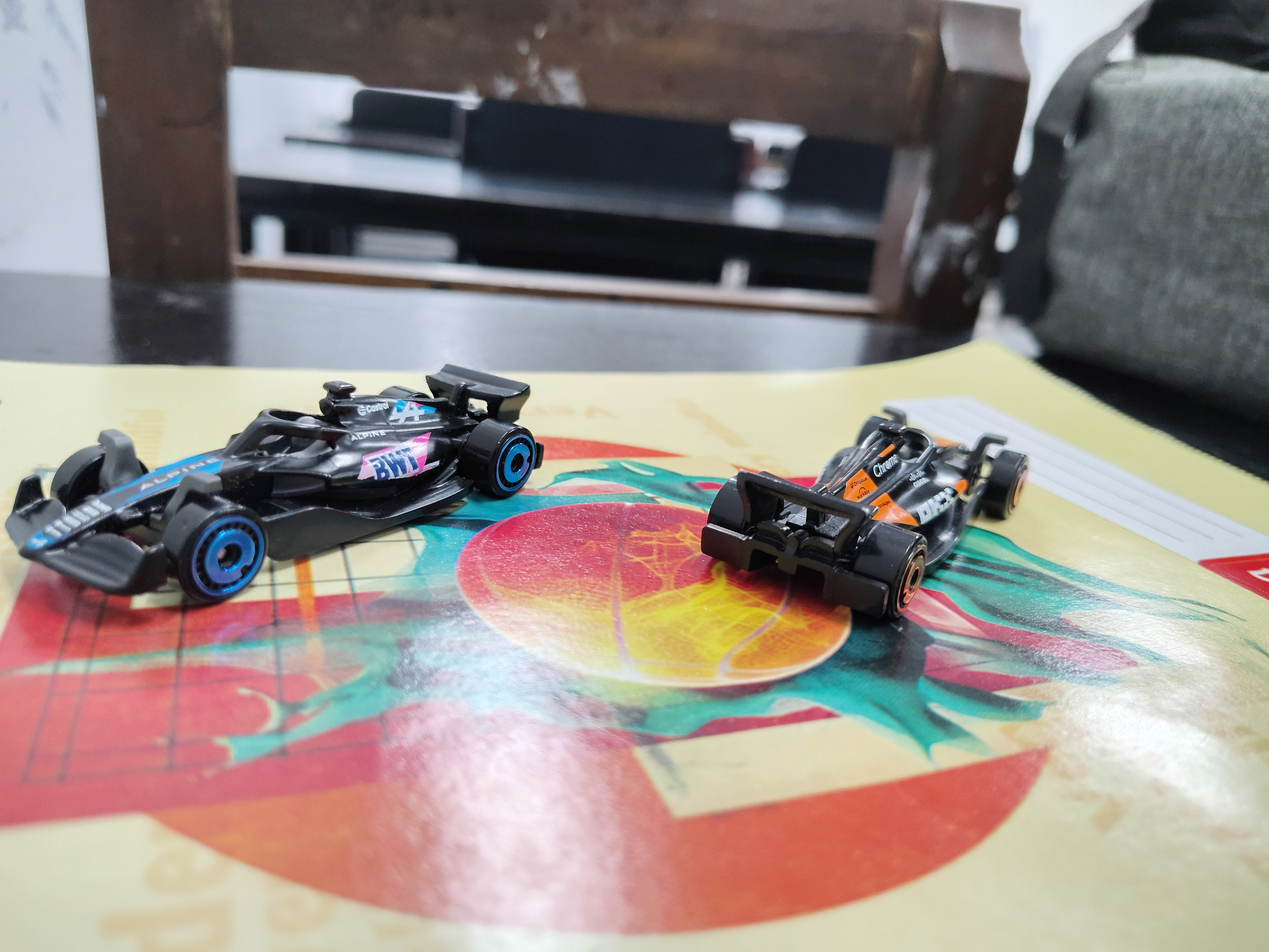Alpine A524: (6, 299, 547, 634)
McLaren MCL40: (680, 350, 1038, 634)
